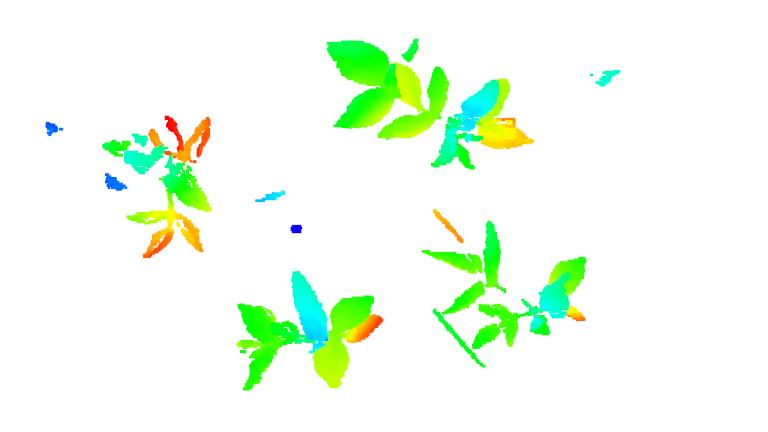mungbean: (326, 30, 537, 167), (419, 199, 593, 347), (230, 265, 384, 394), (106, 114, 218, 255)
